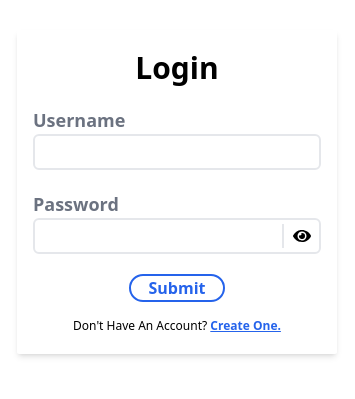
<Login /> › should display error messages for empty username and password fields
Click the submit button: click(177, 288) x1=129 y1=274 x2=225 y2=302
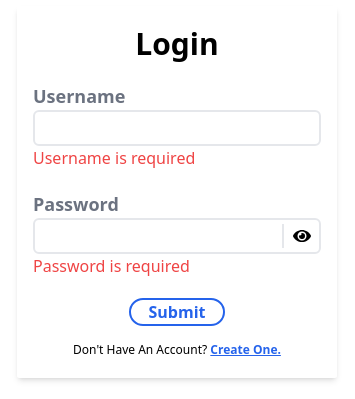
Expected: the text "Username is required" is shown, x1=33 y1=147 x2=195 y2=169
